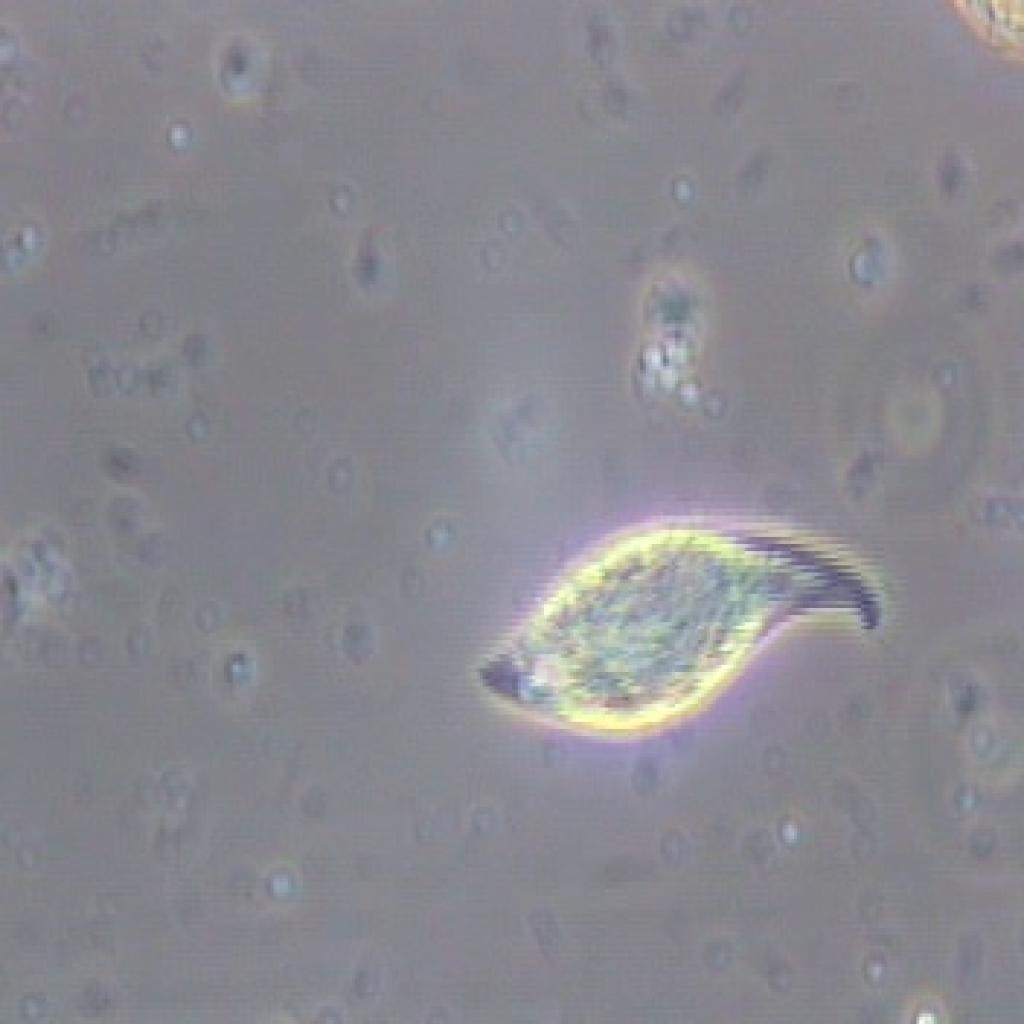Pristina: (438, 485, 903, 763)
